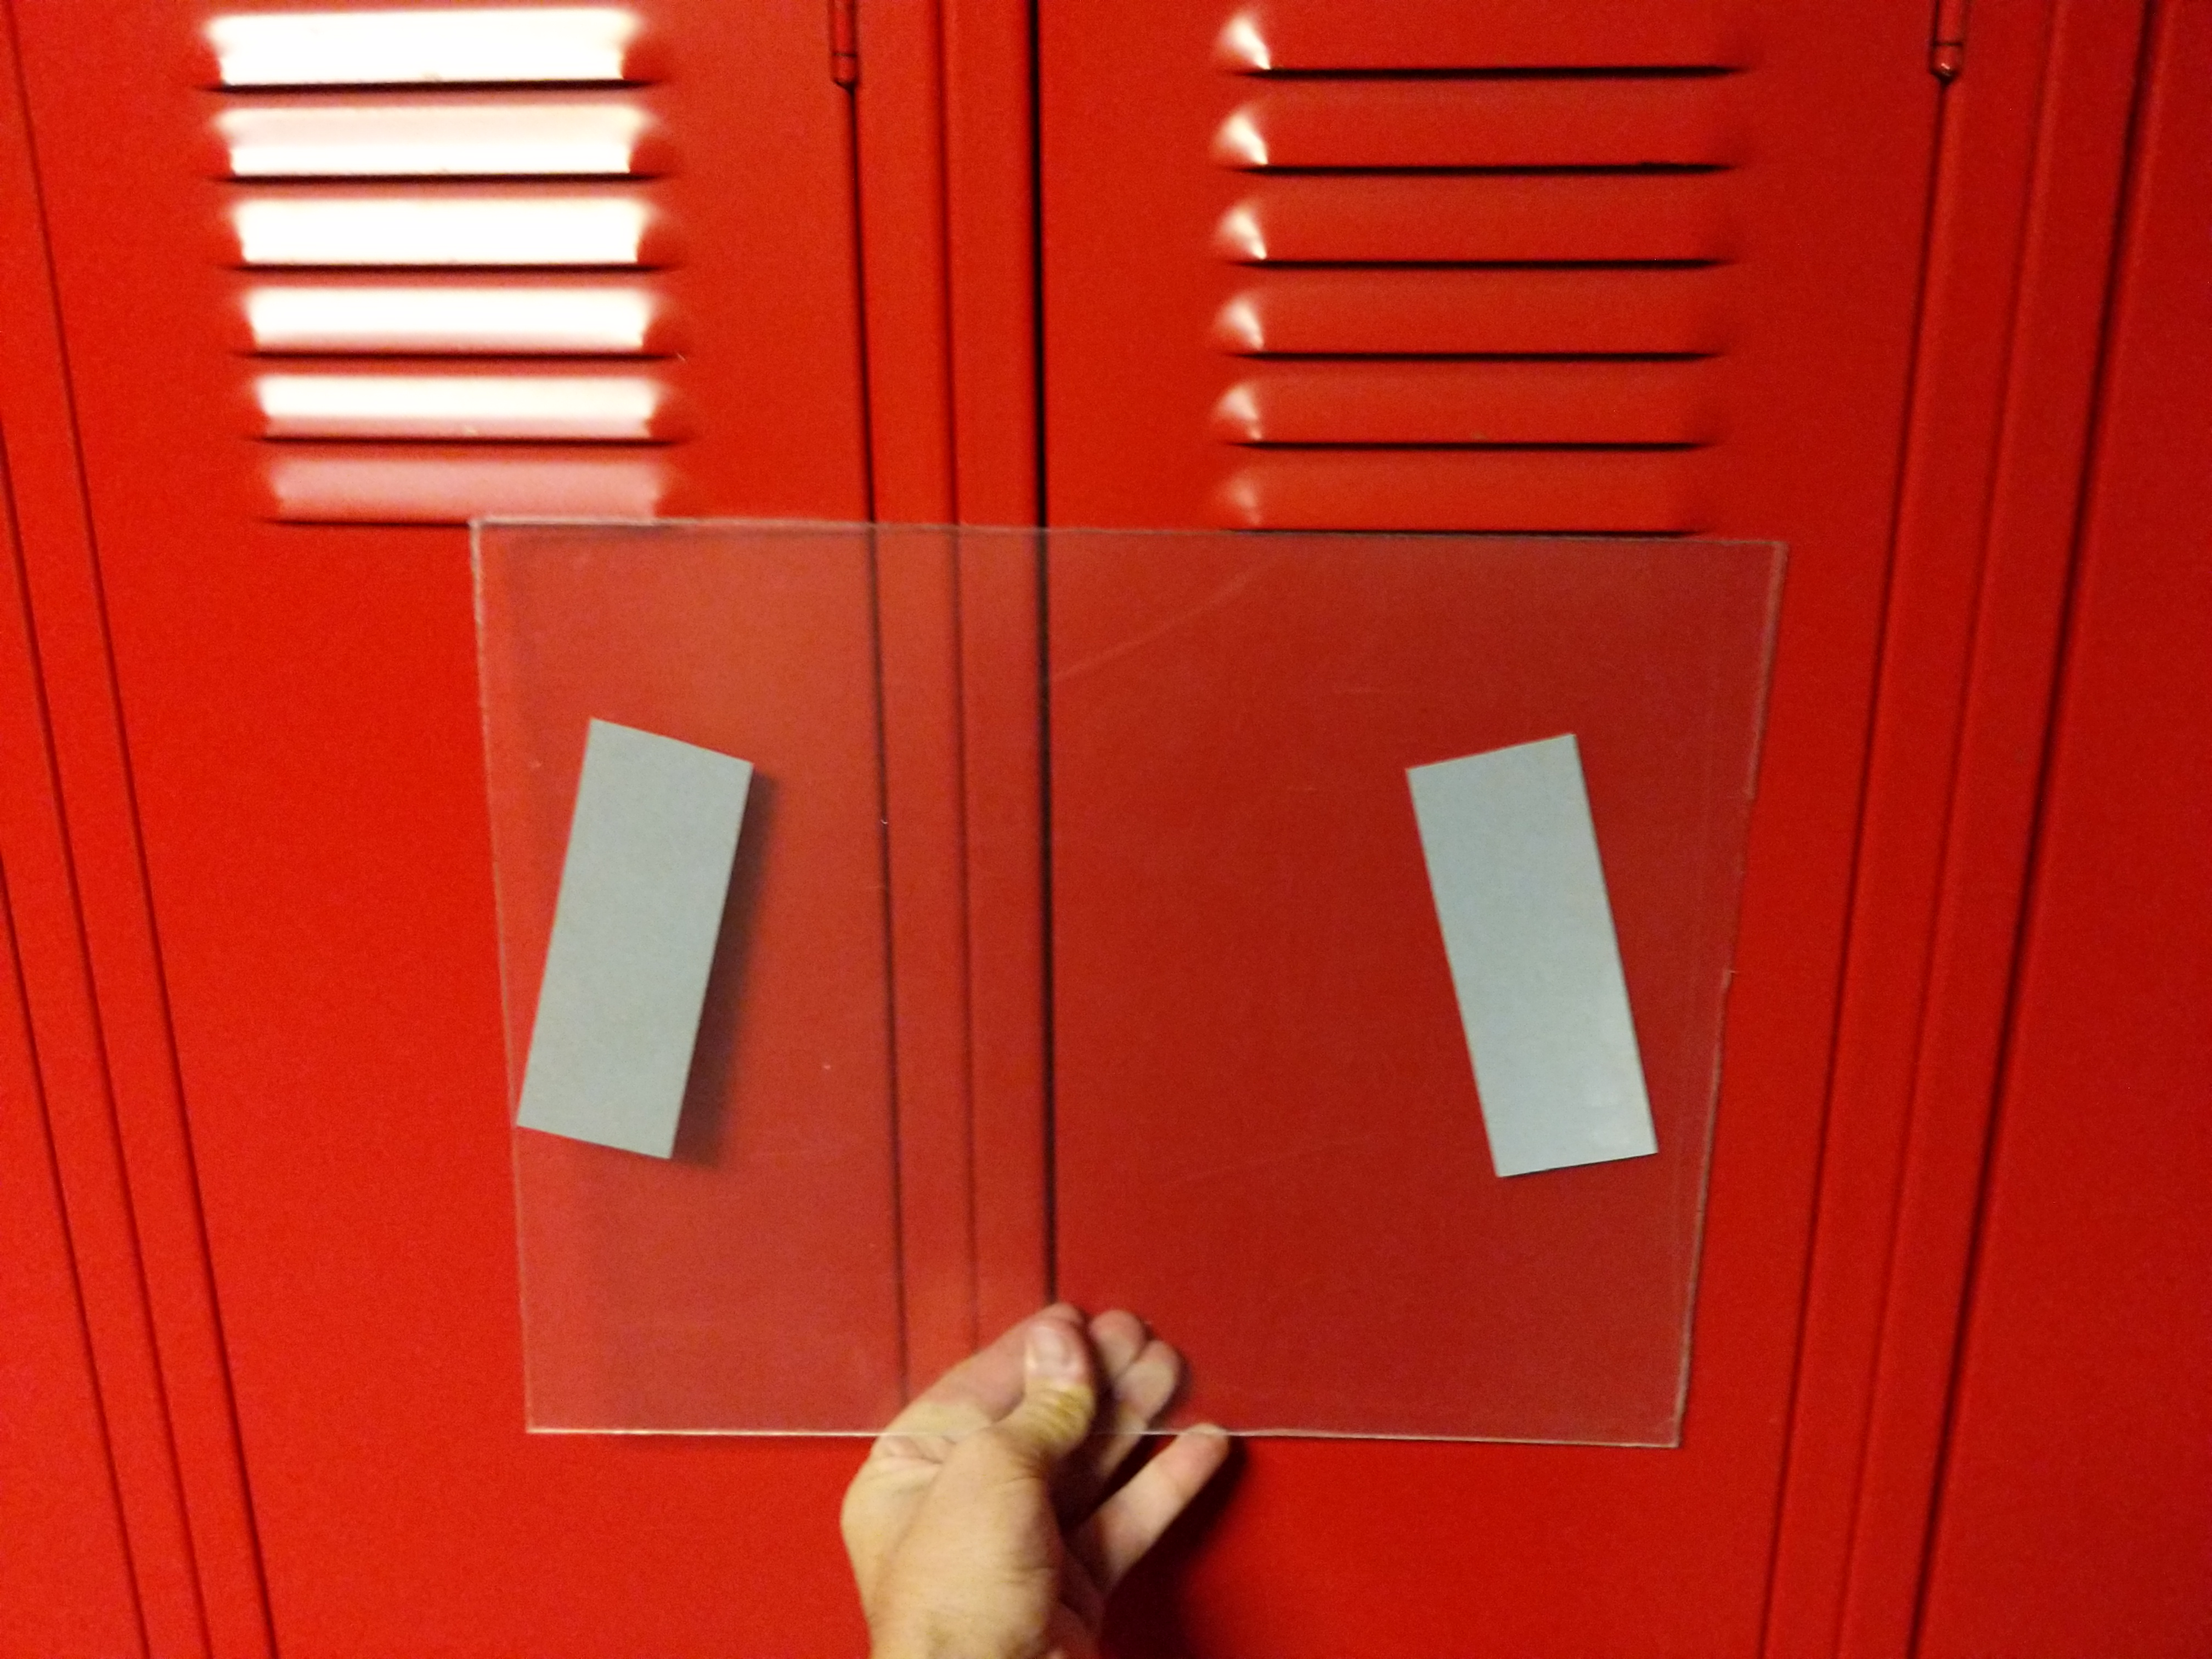vision_target: (503, 713, 1669, 1194)
